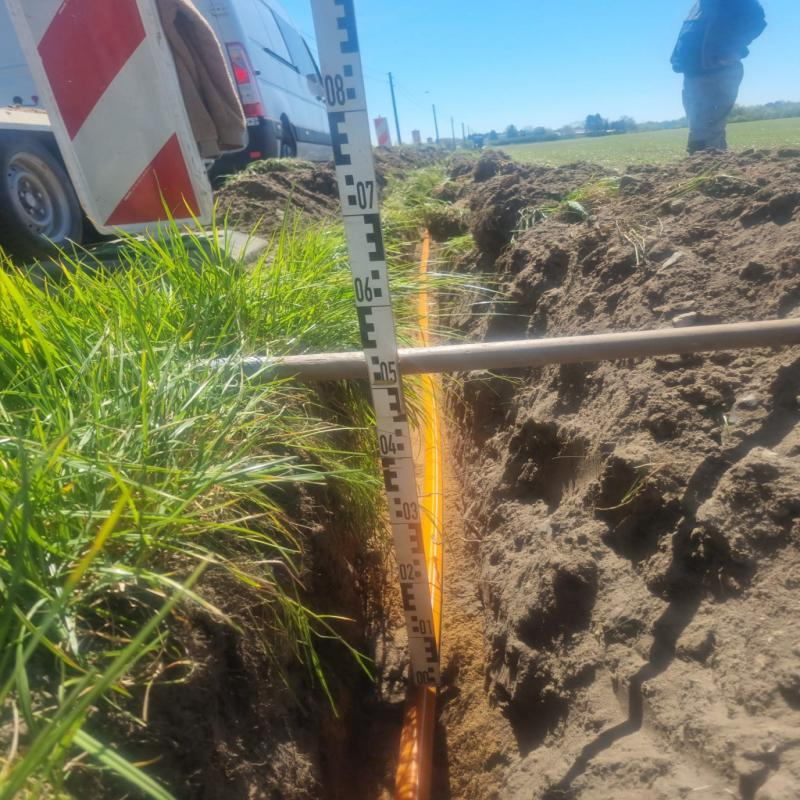Orang-Speednetrohrchen: (394, 245, 446, 796)
